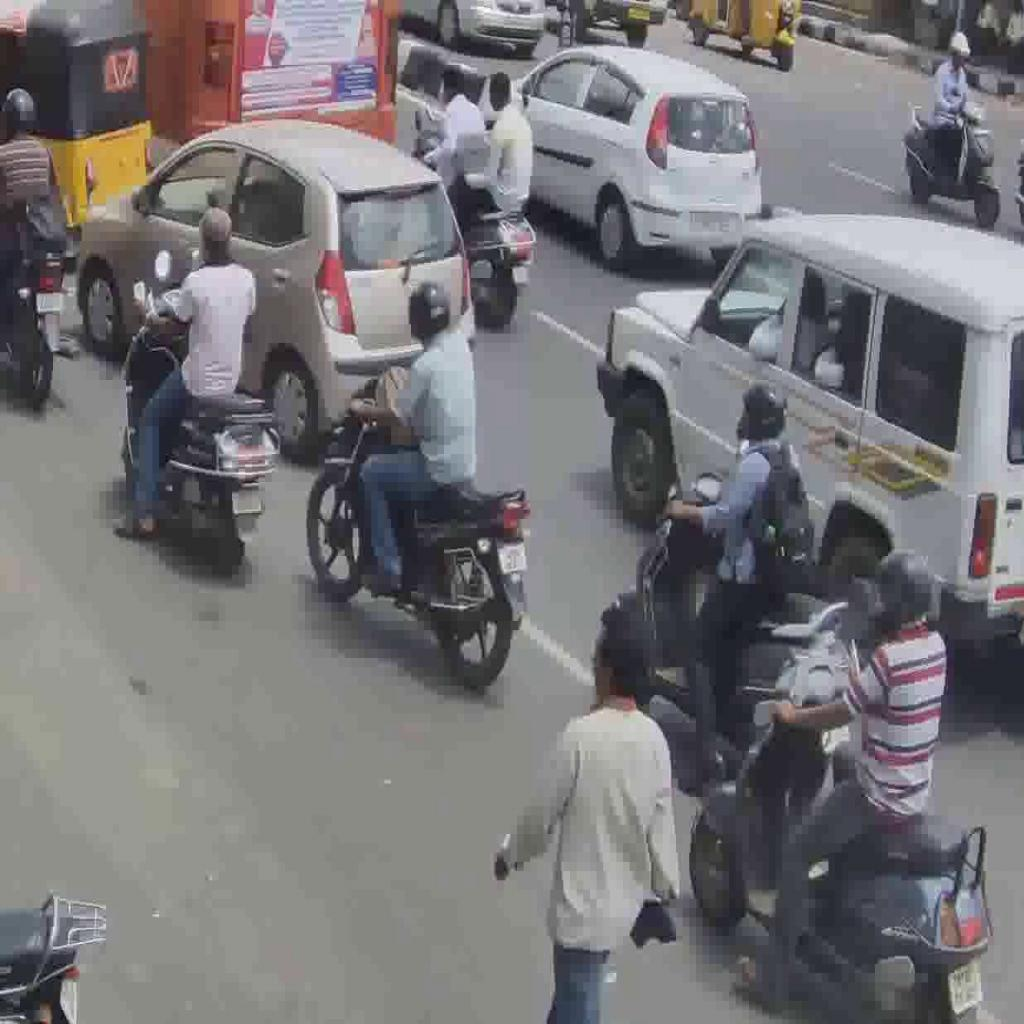helmet: (688, 650, 996, 1024), (602, 460, 860, 803), (305, 374, 533, 691), (118, 280, 282, 578), (408, 125, 538, 330), (1, 245, 83, 407)
